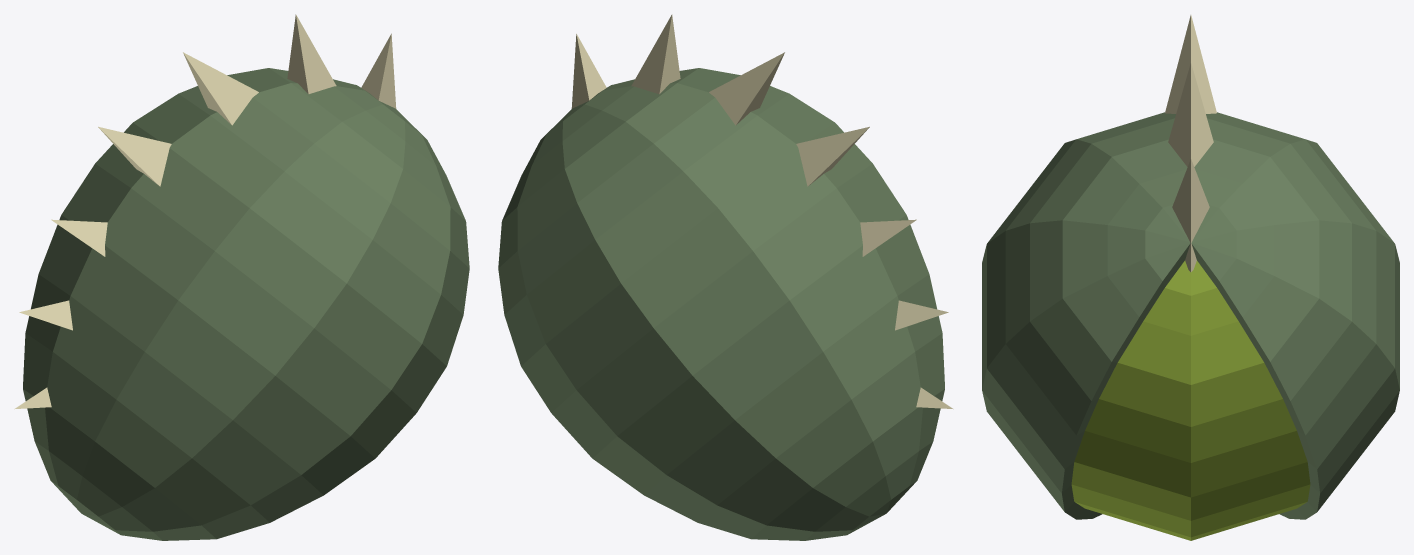
Rendered from ScreecherThorax.fbx.
3 views of the same model, side by side, from view 1: azimuth 30°, elevation 25°; view 2: azimuth 150°, elevation 25°; view 3: azimuth 270°, elevation 25° (orthographic). The views are drawn at different scales.
Visible parts, largest first — view 1: Thorax; view 2: Thorax; view 3: Thorax.
Boxes of the visible parts, x1=… form: Thorax: x1=14, y1=14, x2=469, y2=540; Thorax: x1=498, y1=14, x2=953, y2=540; Thorax: x1=982, y1=15, x2=1399, y2=540.
Size of the model in its own units: 6.26 by 6.79 by 5.05.
